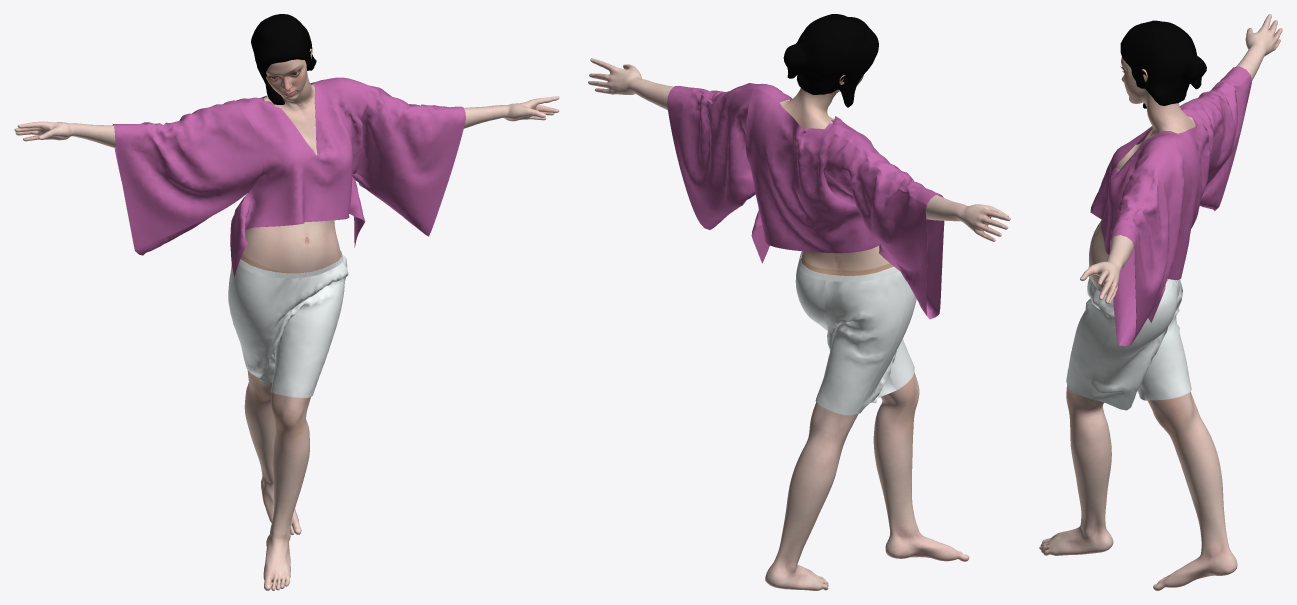
The model's file is Custom_View_9__Dynamic_2.obj.
3 renders of one model, left to right at view 1: azimuth 30°, elevation 25°; view 2: azimuth 150°, elevation 25°; view 3: azimuth 270°, elevation 25°, orthographic. The views are drawn at different scales.
Size of the model in its own units: 1601 by 1717 by 679.
